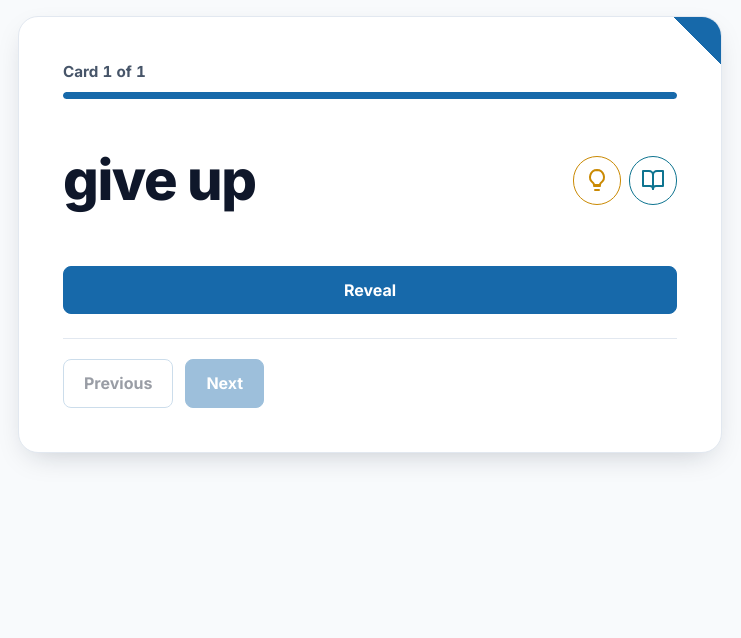
Test case: Flashcard › switches the complete explanation between English and Spanish
Click the button "Reveal" at {"x": 370, "y": 290}, box [63,266,677,314]
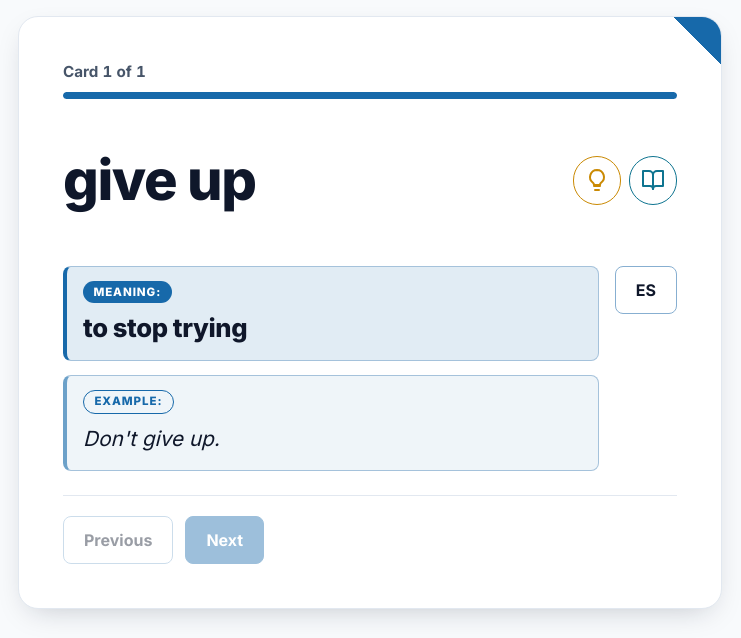
Expected: the text "rendirse" is not shown
Result: the text "to stop trying" is shown at [83,312,247,344]
Result: the text "Don't give up." is shown at [83,423,220,454]
Click the button with aria-label "Show Spanish translation" at {"x": 646, "y": 290}, box [615,266,677,314]
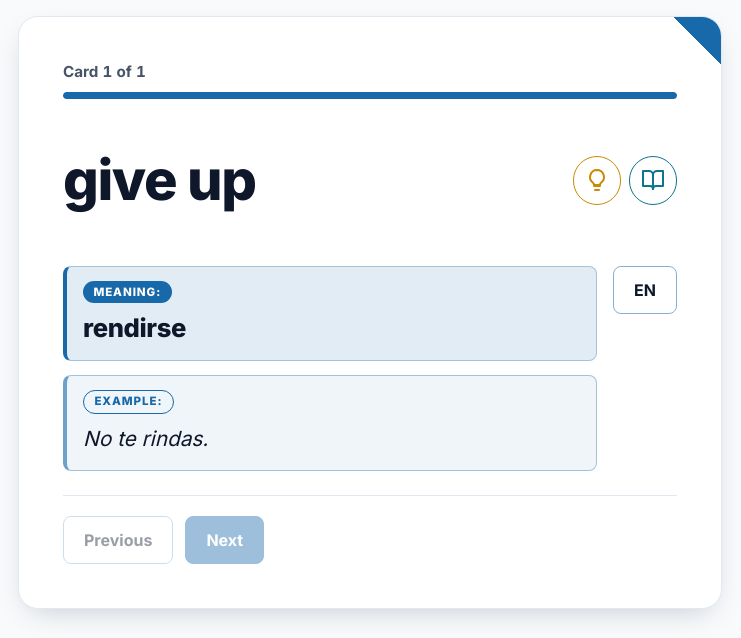
Result: the text "Meaning:" is shown at [83,281,172,303]
Result: the text "rendirse" is shown at [83,312,186,344]
Result: the text "No te rindas." is shown at [83,423,208,454]
Click the button with aria-label "Show English explanation" at {"x": 645, "y": 290}, box [613,266,677,314]
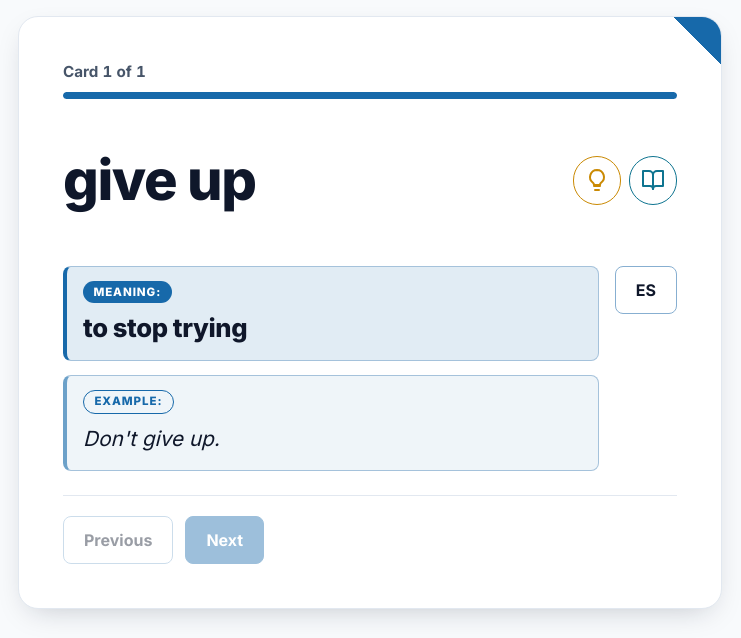
Result: the text "rendirse" is gone
Result: the text "No te rindas." is gone
Result: the text "to stop trying" is shown at [83,312,247,344]
